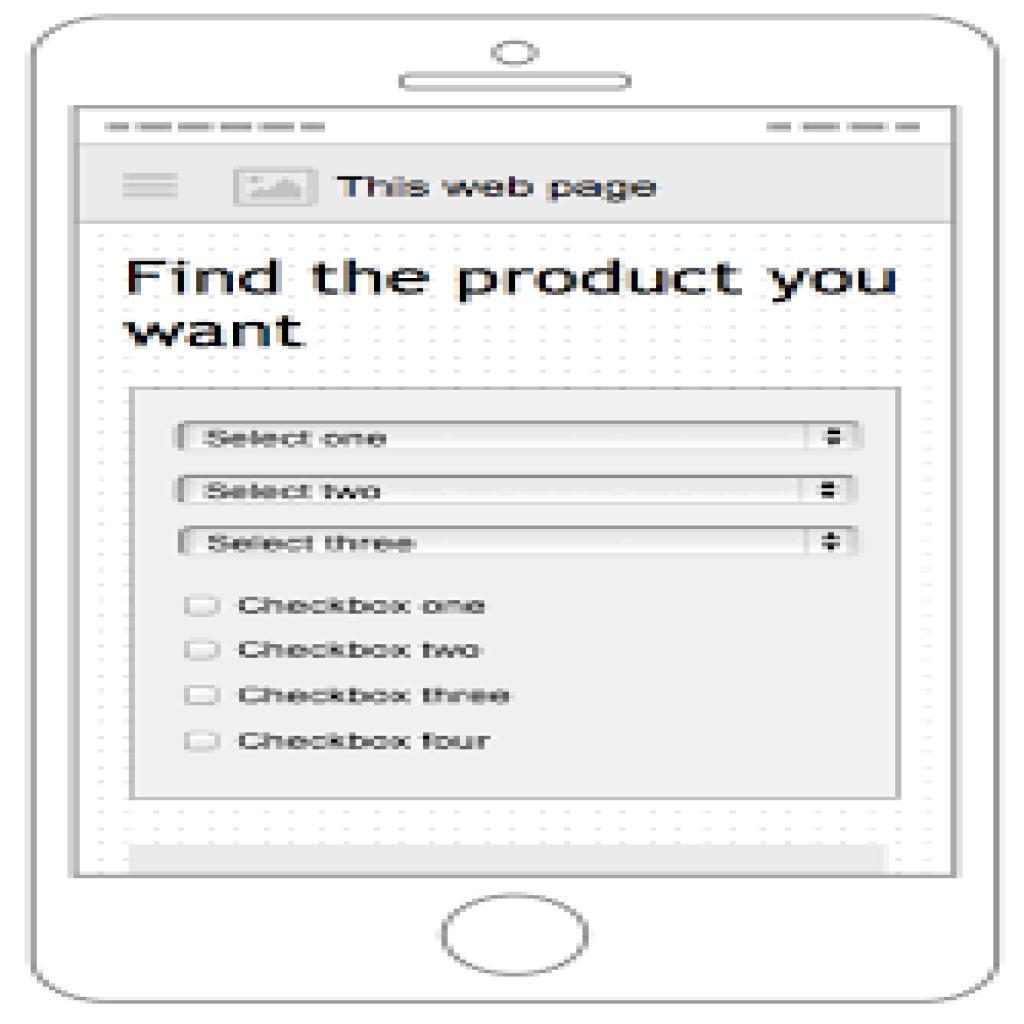checkbox: (179, 632, 222, 668), (183, 678, 222, 717), (184, 596, 227, 623), (183, 730, 229, 755)
dropdown: (176, 418, 868, 457), (176, 522, 863, 560), (174, 472, 863, 509)
icon: (231, 167, 321, 211), (115, 164, 189, 208)
